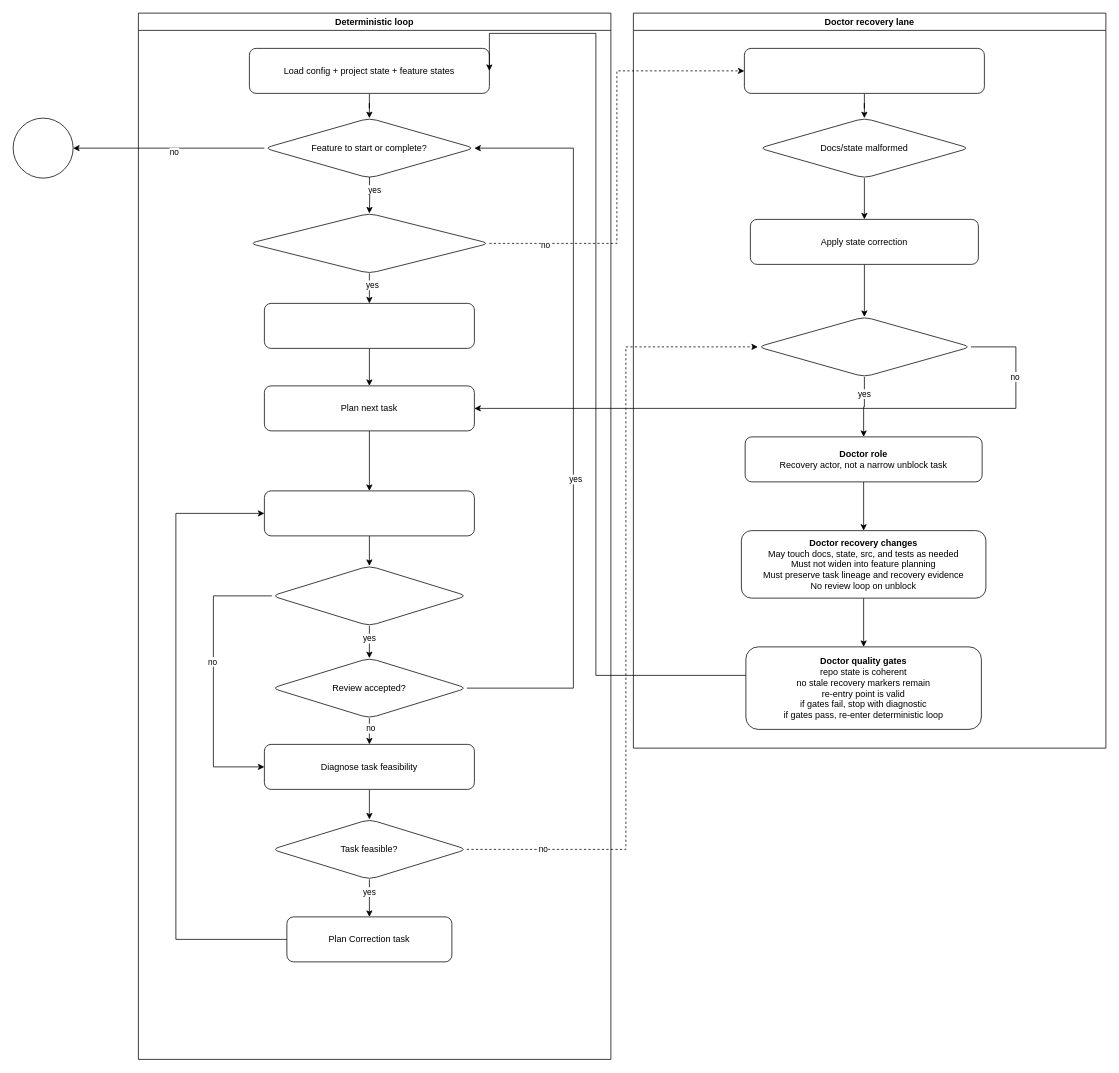
Image size: 1119x1073. Some labels were removed from this diagram. Here are the shapes that lost their labels. From the top down, the centre of each, then its label:
At pixel 864 70: "Diagnose repo state".
At pixel 42 147: "Exit".
At pixel 369 243: "Feature state valid?".
At pixel 369 325: "Formalize feature if needed".
At pixel 864 346: "Interface gap or stale recovery Interface".
At pixel 369 513: "Implement task".
At pixel 369 595: "Automatic quality gates pass?".
